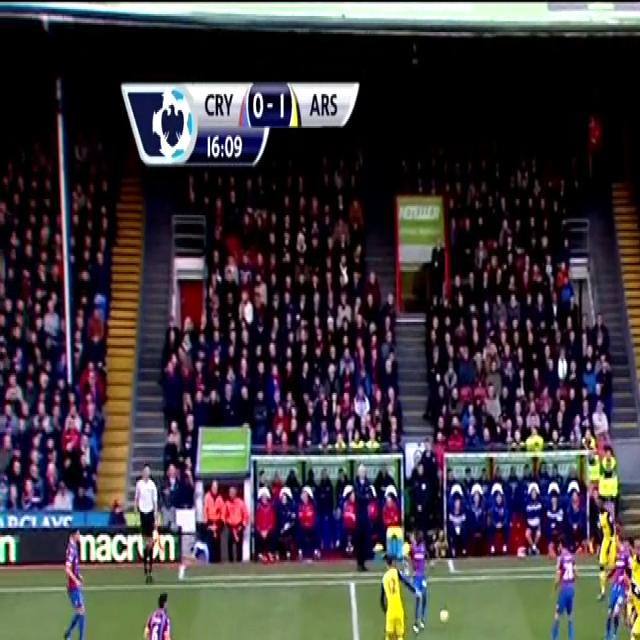ball: (434, 606, 454, 634)
referee: (134, 466, 160, 578)
soccer-player: (49, 526, 99, 640), (539, 535, 591, 640), (372, 549, 431, 640), (132, 592, 192, 640), (619, 586, 640, 640)
